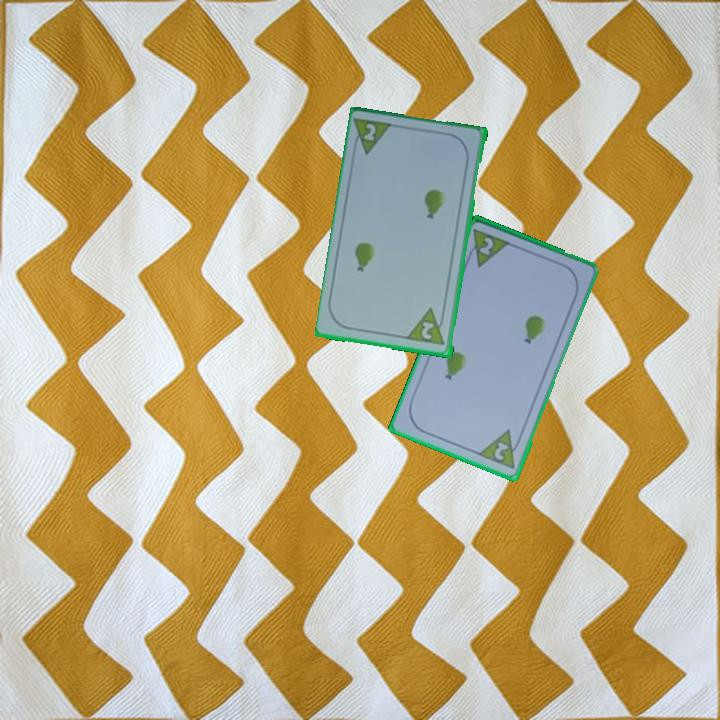2p: (350, 115, 397, 158), (490, 438, 512, 464), (476, 234, 497, 259), (418, 318, 437, 343)
